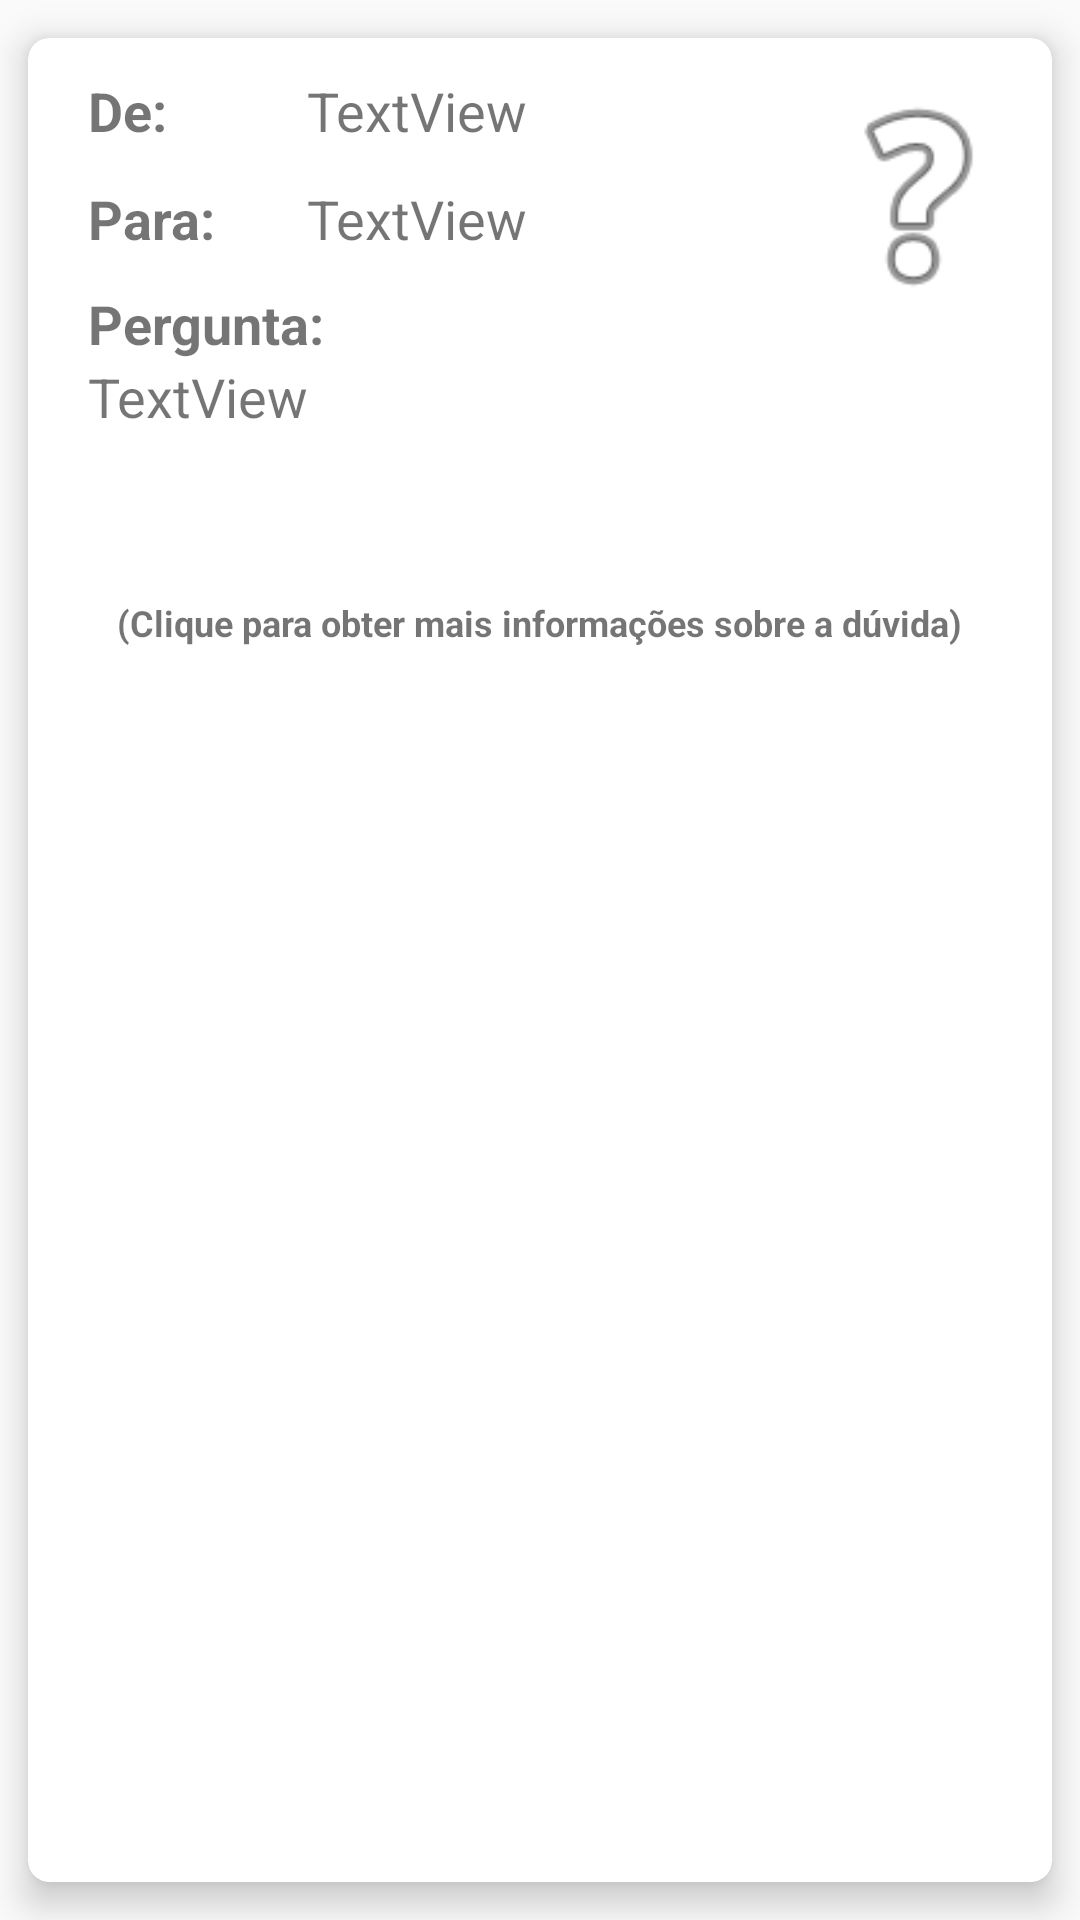

Icon click points for this 1080px×1920px phone screenshot, format (x=x, y=y):
help: (x=918, y=197)
